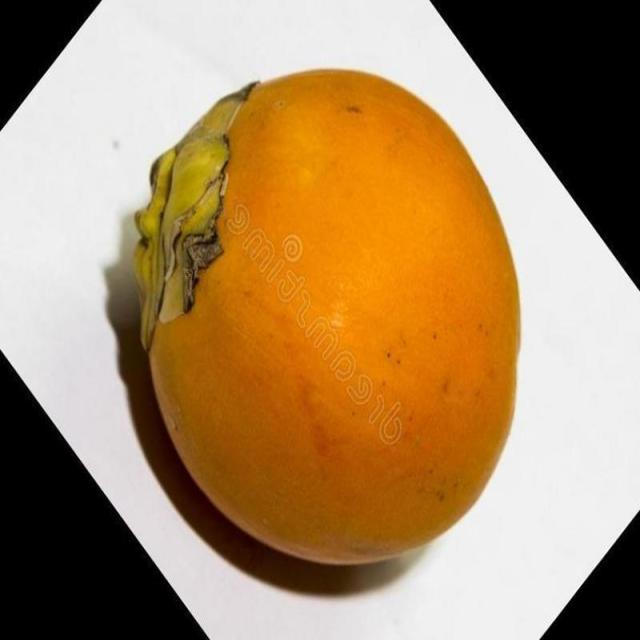good: (131, 69, 522, 570)
